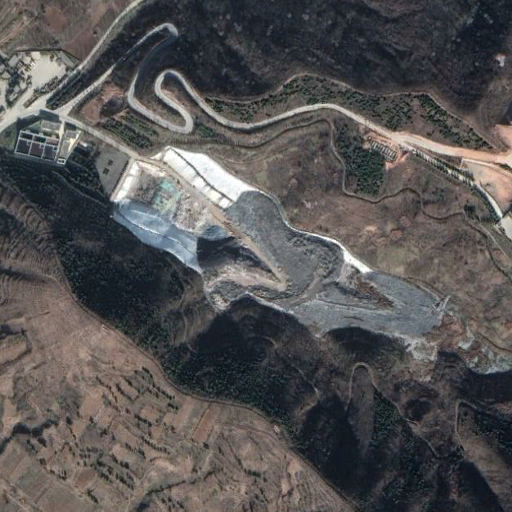lf: (110, 146, 444, 340)
